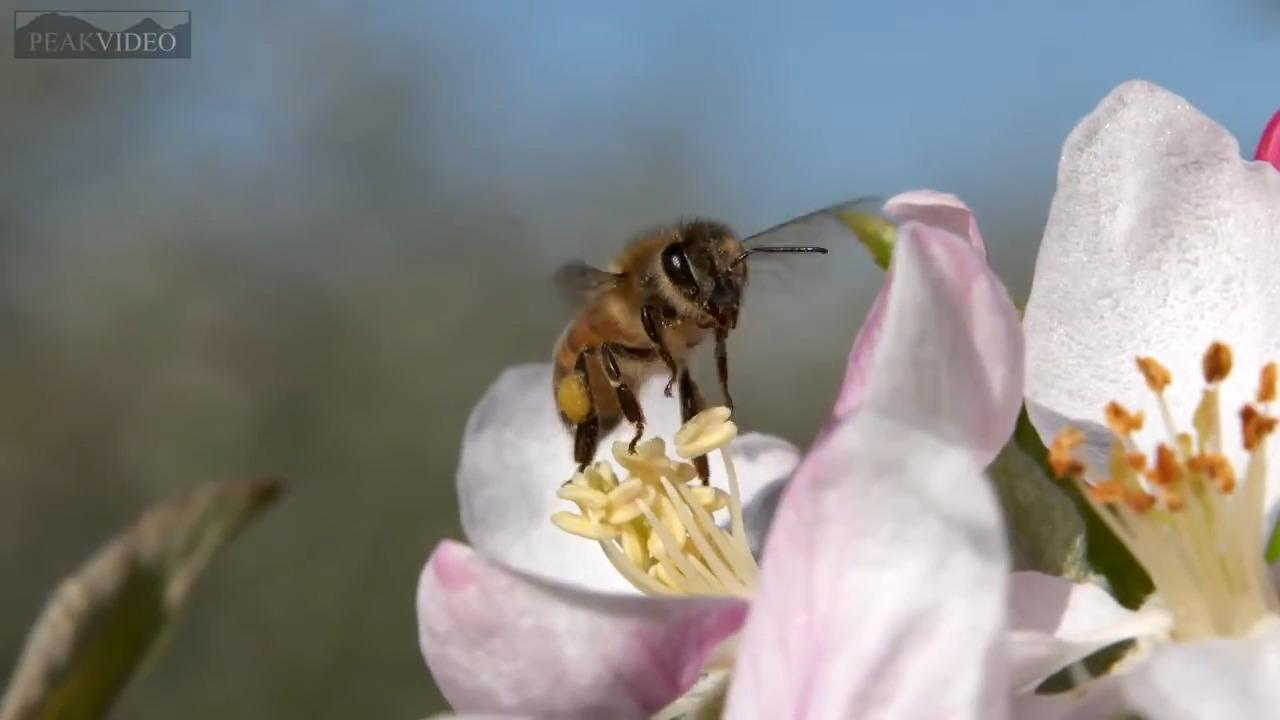pollenbee: (551, 220, 744, 445)
